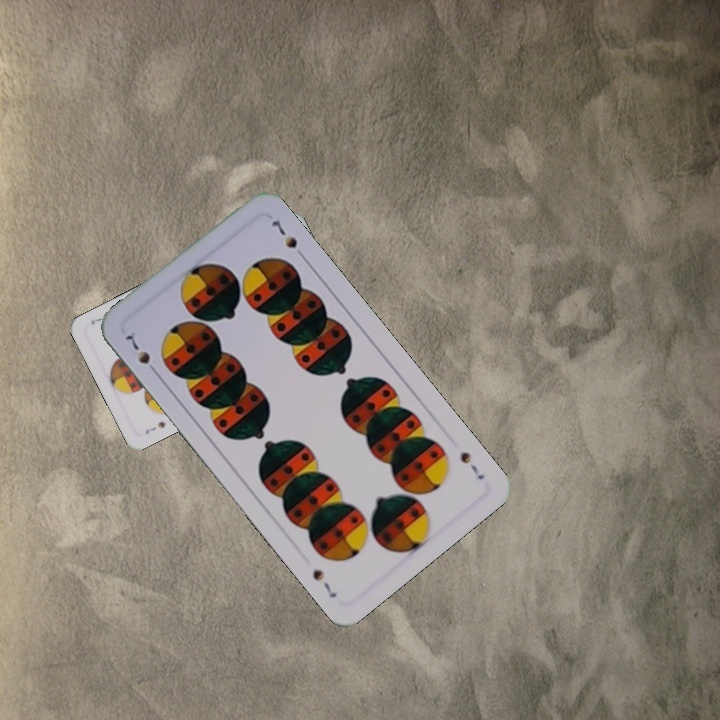S7: (121, 330, 161, 378), (456, 447, 488, 483), (141, 417, 168, 437)
